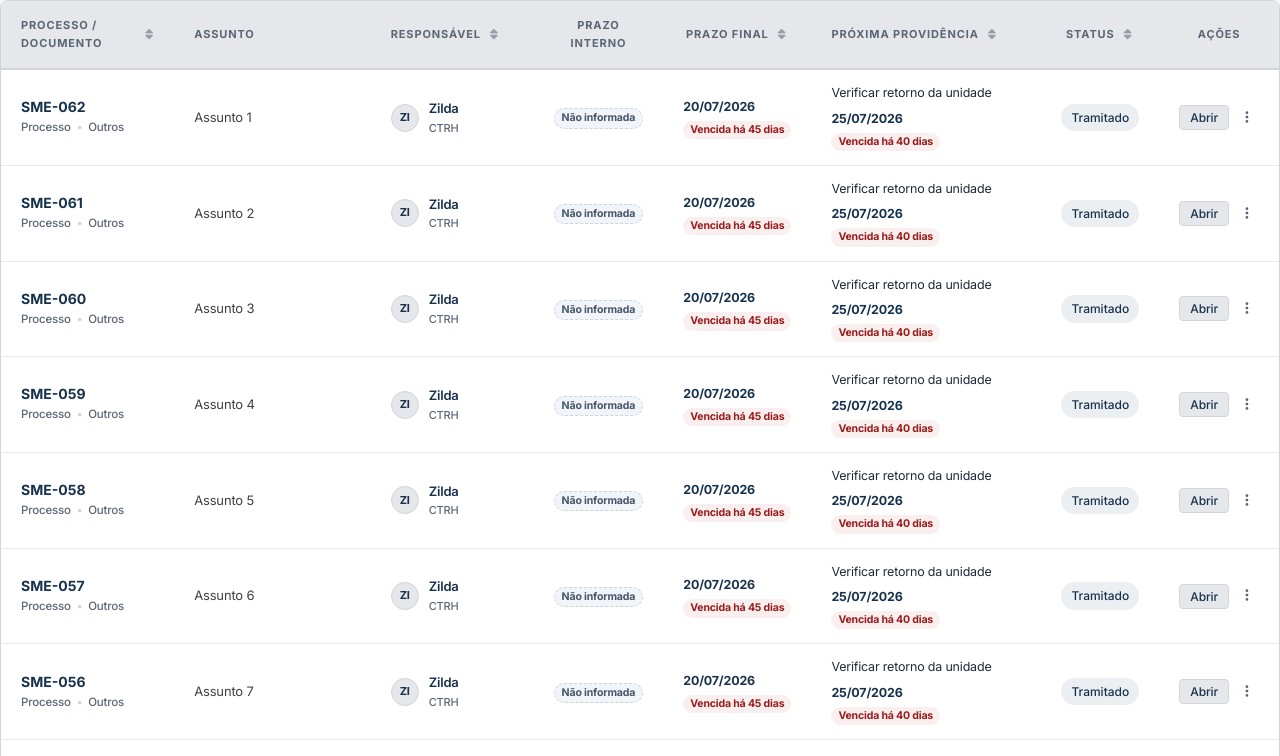
Test: experiência profissional de formulários e tabela › ordena por processo e inicia a paginação em 50 resultados, com opção de 100
This screenshot has width=1280, height=756.
Click the button with aria-label "ordenar por processo" at (88, 35), box [21,17,154,52]
(page scrolled)
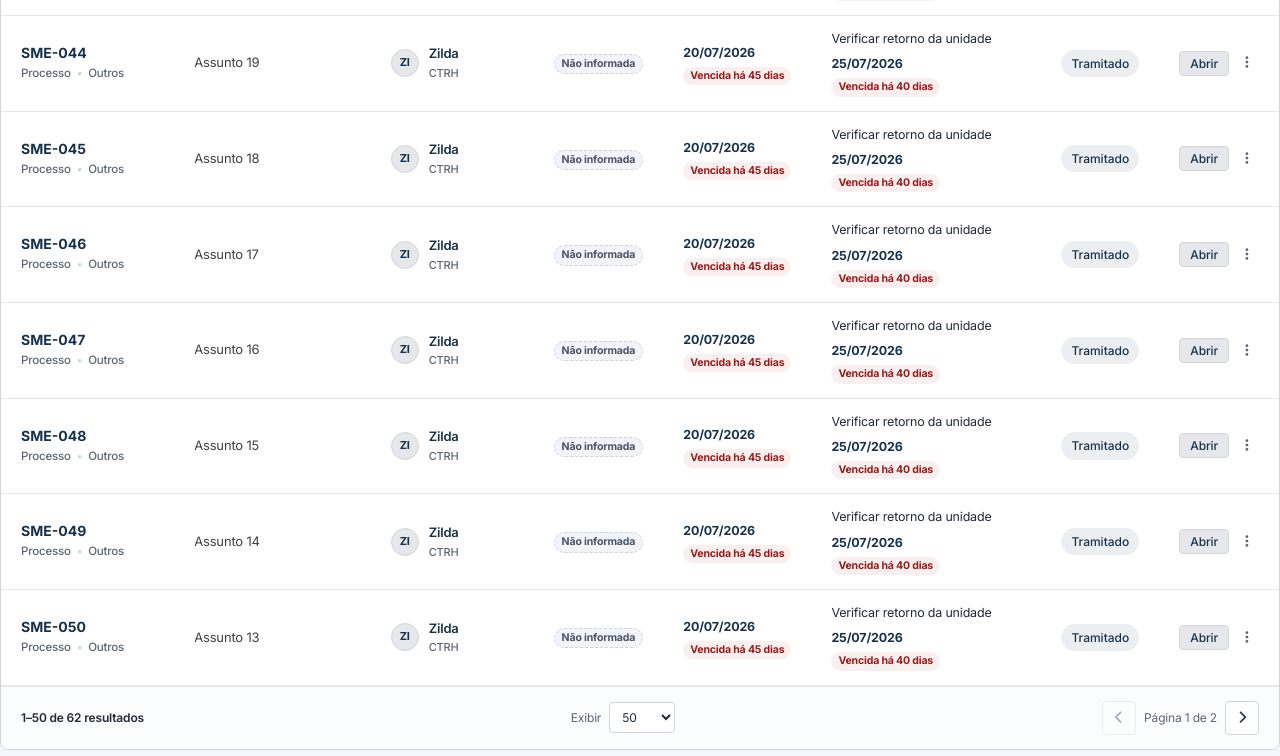
Expected: the dropdown named "Resultados por página" shows "50", [609,702,675,733]
Expected: the text "1–50 de 62 resultados" is shown, [21,708,144,727]
Click the button named "próxima página" at (1242, 718), box [1225,701,1259,735]
(page scrolled)
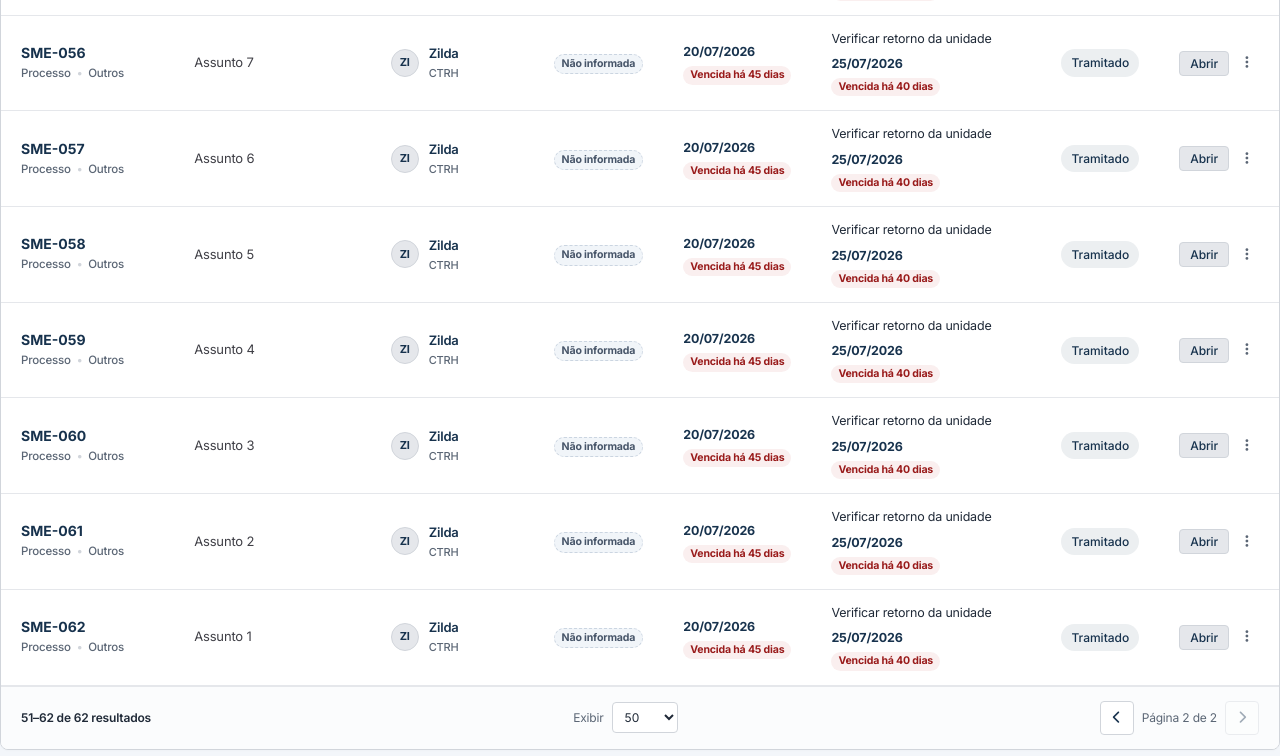
Expected: the text "51–62 de 62 resultados" is shown, [21,708,151,727]
